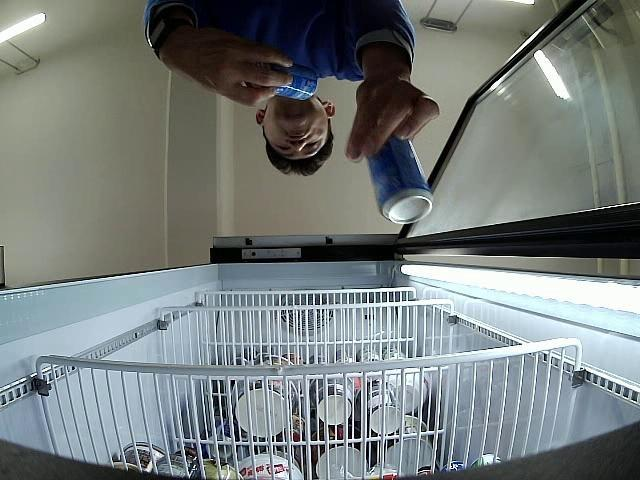15_letsbe: (368, 134, 434, 224), (250, 62, 318, 101)
